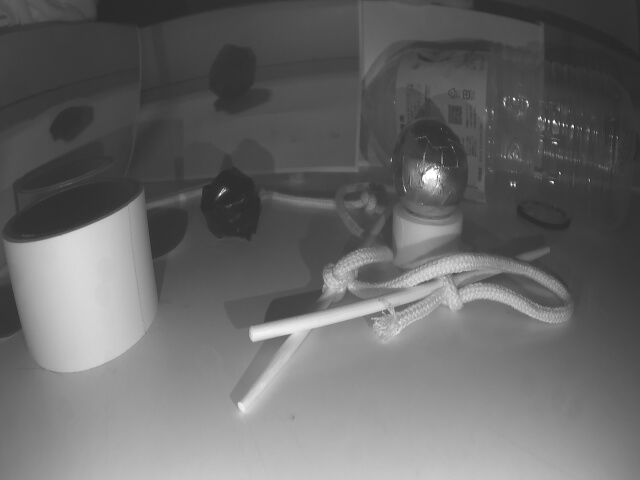Dead: (201, 170, 262, 233)
Live: (397, 115, 464, 216)
